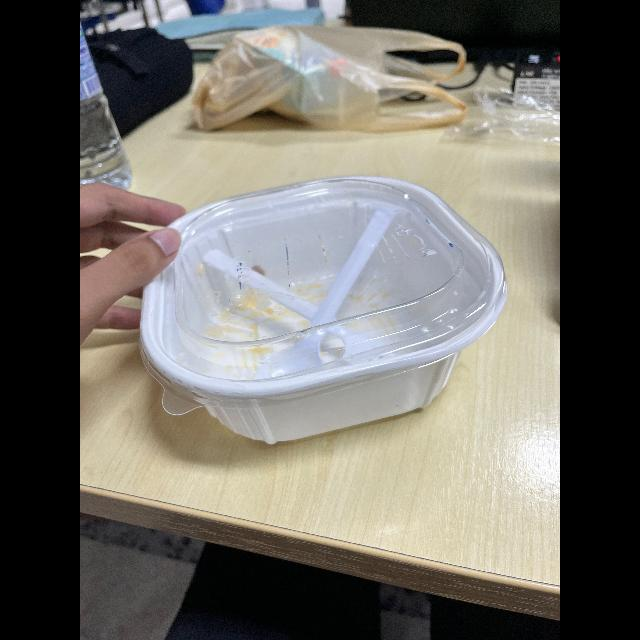plastic_box: (131, 170, 507, 450)
